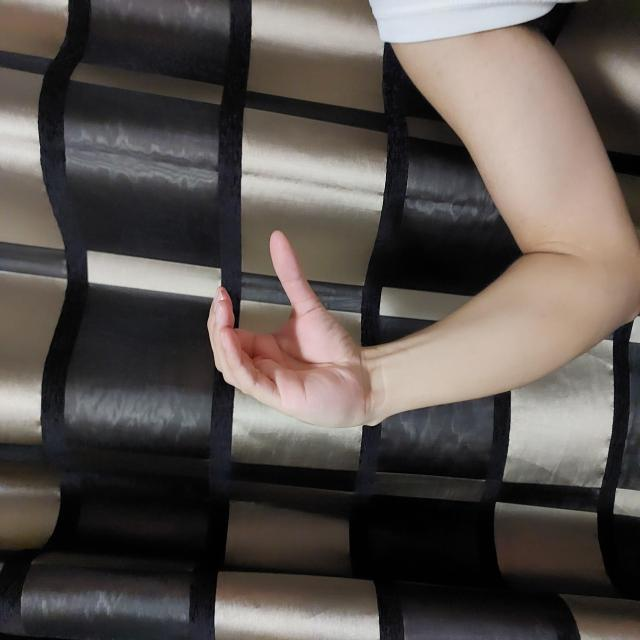C: (210, 206, 412, 375)
